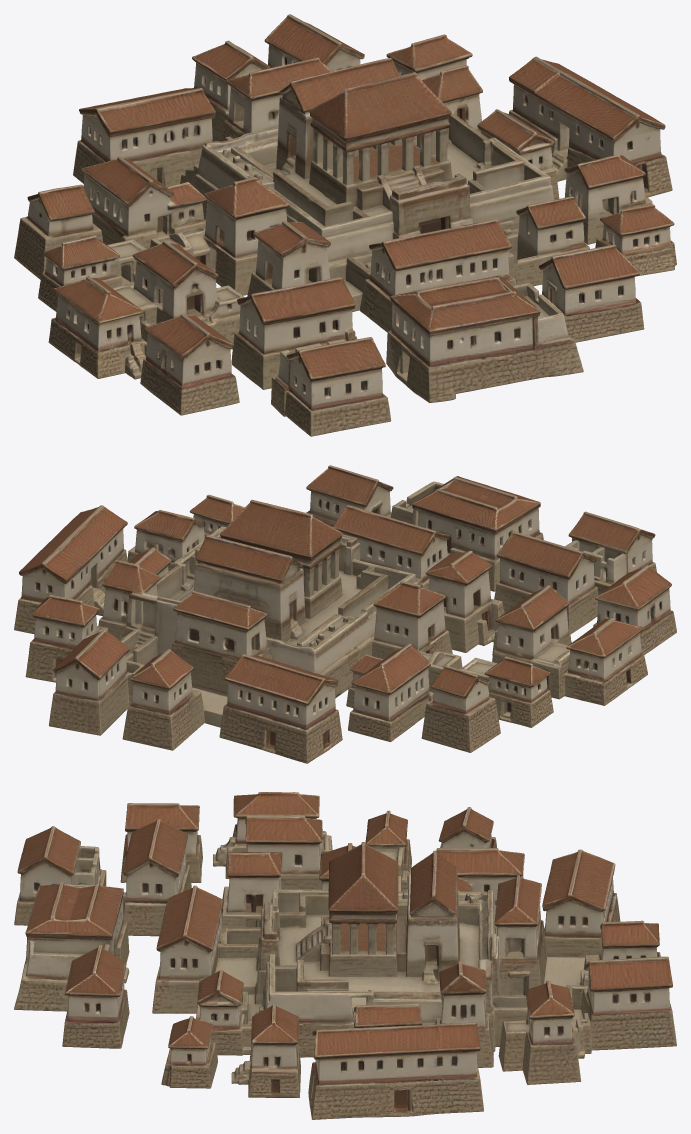
Rendered from Ancient Town (Greco-Roman).fbx.
3 renders of one model, top to bottom at view 1: azimuth 30°, elevation 25°; view 2: azimuth 150°, elevation 25°; view 3: azimuth 270°, elevation 25°, orthographic. The views are drawn at different scales.
Parts seen in each view (by area): view 1: tripo_node_775f1b55; view 2: tripo_node_775f1b55; view 3: tripo_node_775f1b55.
Boxes of the visible parts, <box> form: tripo_node_775f1b55: <box>14,14,676,436</box>; tripo_node_775f1b55: <box>14,465,676,763</box>; tripo_node_775f1b55: <box>14,792,676,1119</box>.
Bounding box in the file's own units: 0.9991 × 0.2497 × 1.
